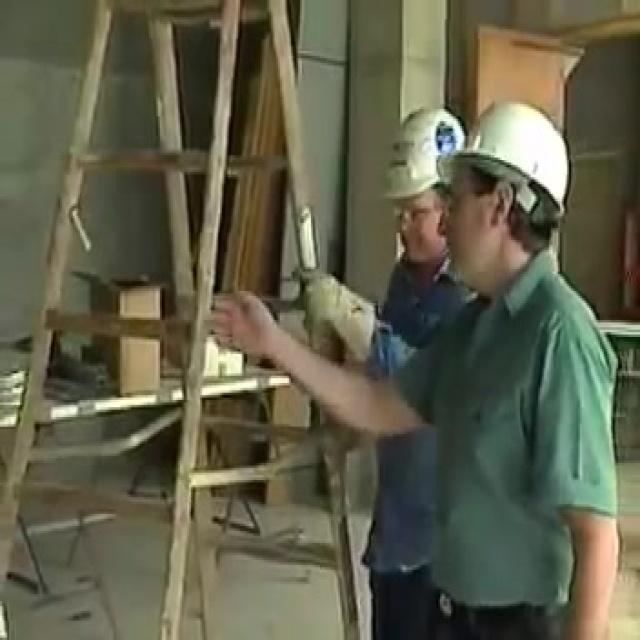helmet: (433, 133, 573, 295), (379, 136, 468, 272)
